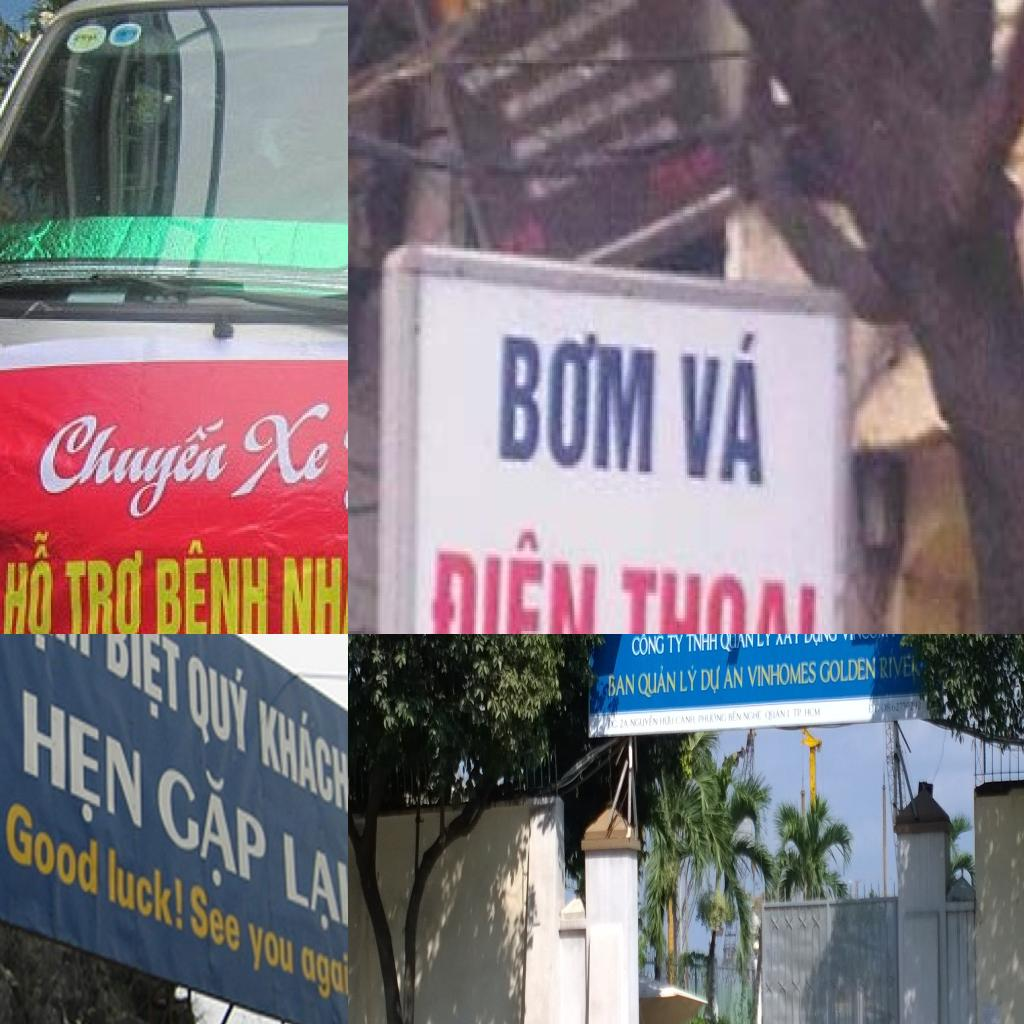text: (28, 407, 244, 532), (499, 325, 658, 481), (17, 682, 146, 848), (152, 746, 274, 913), (429, 522, 599, 634), (677, 324, 769, 490), (256, 684, 348, 820), (225, 393, 338, 503), (149, 536, 274, 634), (2, 793, 102, 903), (184, 642, 254, 770), (279, 825, 348, 947), (102, 634, 184, 736), (106, 843, 186, 938), (63, 546, 147, 634), (278, 534, 348, 634), (0, 527, 61, 634), (188, 878, 243, 960), (0, 634, 94, 675), (299, 939, 348, 1015), (245, 919, 298, 988), (745, 659, 818, 689), (818, 655, 876, 685), (636, 664, 676, 700), (878, 652, 915, 683), (607, 670, 636, 700), (630, 634, 665, 658), (718, 634, 755, 655), (700, 663, 722, 697), (678, 665, 700, 696), (684, 634, 718, 654), (880, 699, 922, 715), (722, 663, 744, 692), (802, 634, 838, 649), (698, 708, 728, 726), (839, 634, 890, 644), (629, 714, 659, 730), (773, 634, 803, 648), (666, 634, 684, 656), (675, 710, 697, 727), (764, 706, 786, 722), (804, 704, 823, 720), (755, 634, 775, 649), (742, 708, 763, 722), (659, 712, 674, 726), (728, 708, 742, 723), (866, 702, 880, 716), (792, 706, 804, 720), (607, 717, 619, 730), (619, 716, 630, 730), (786, 708, 790, 719), (890, 634, 896, 641)
